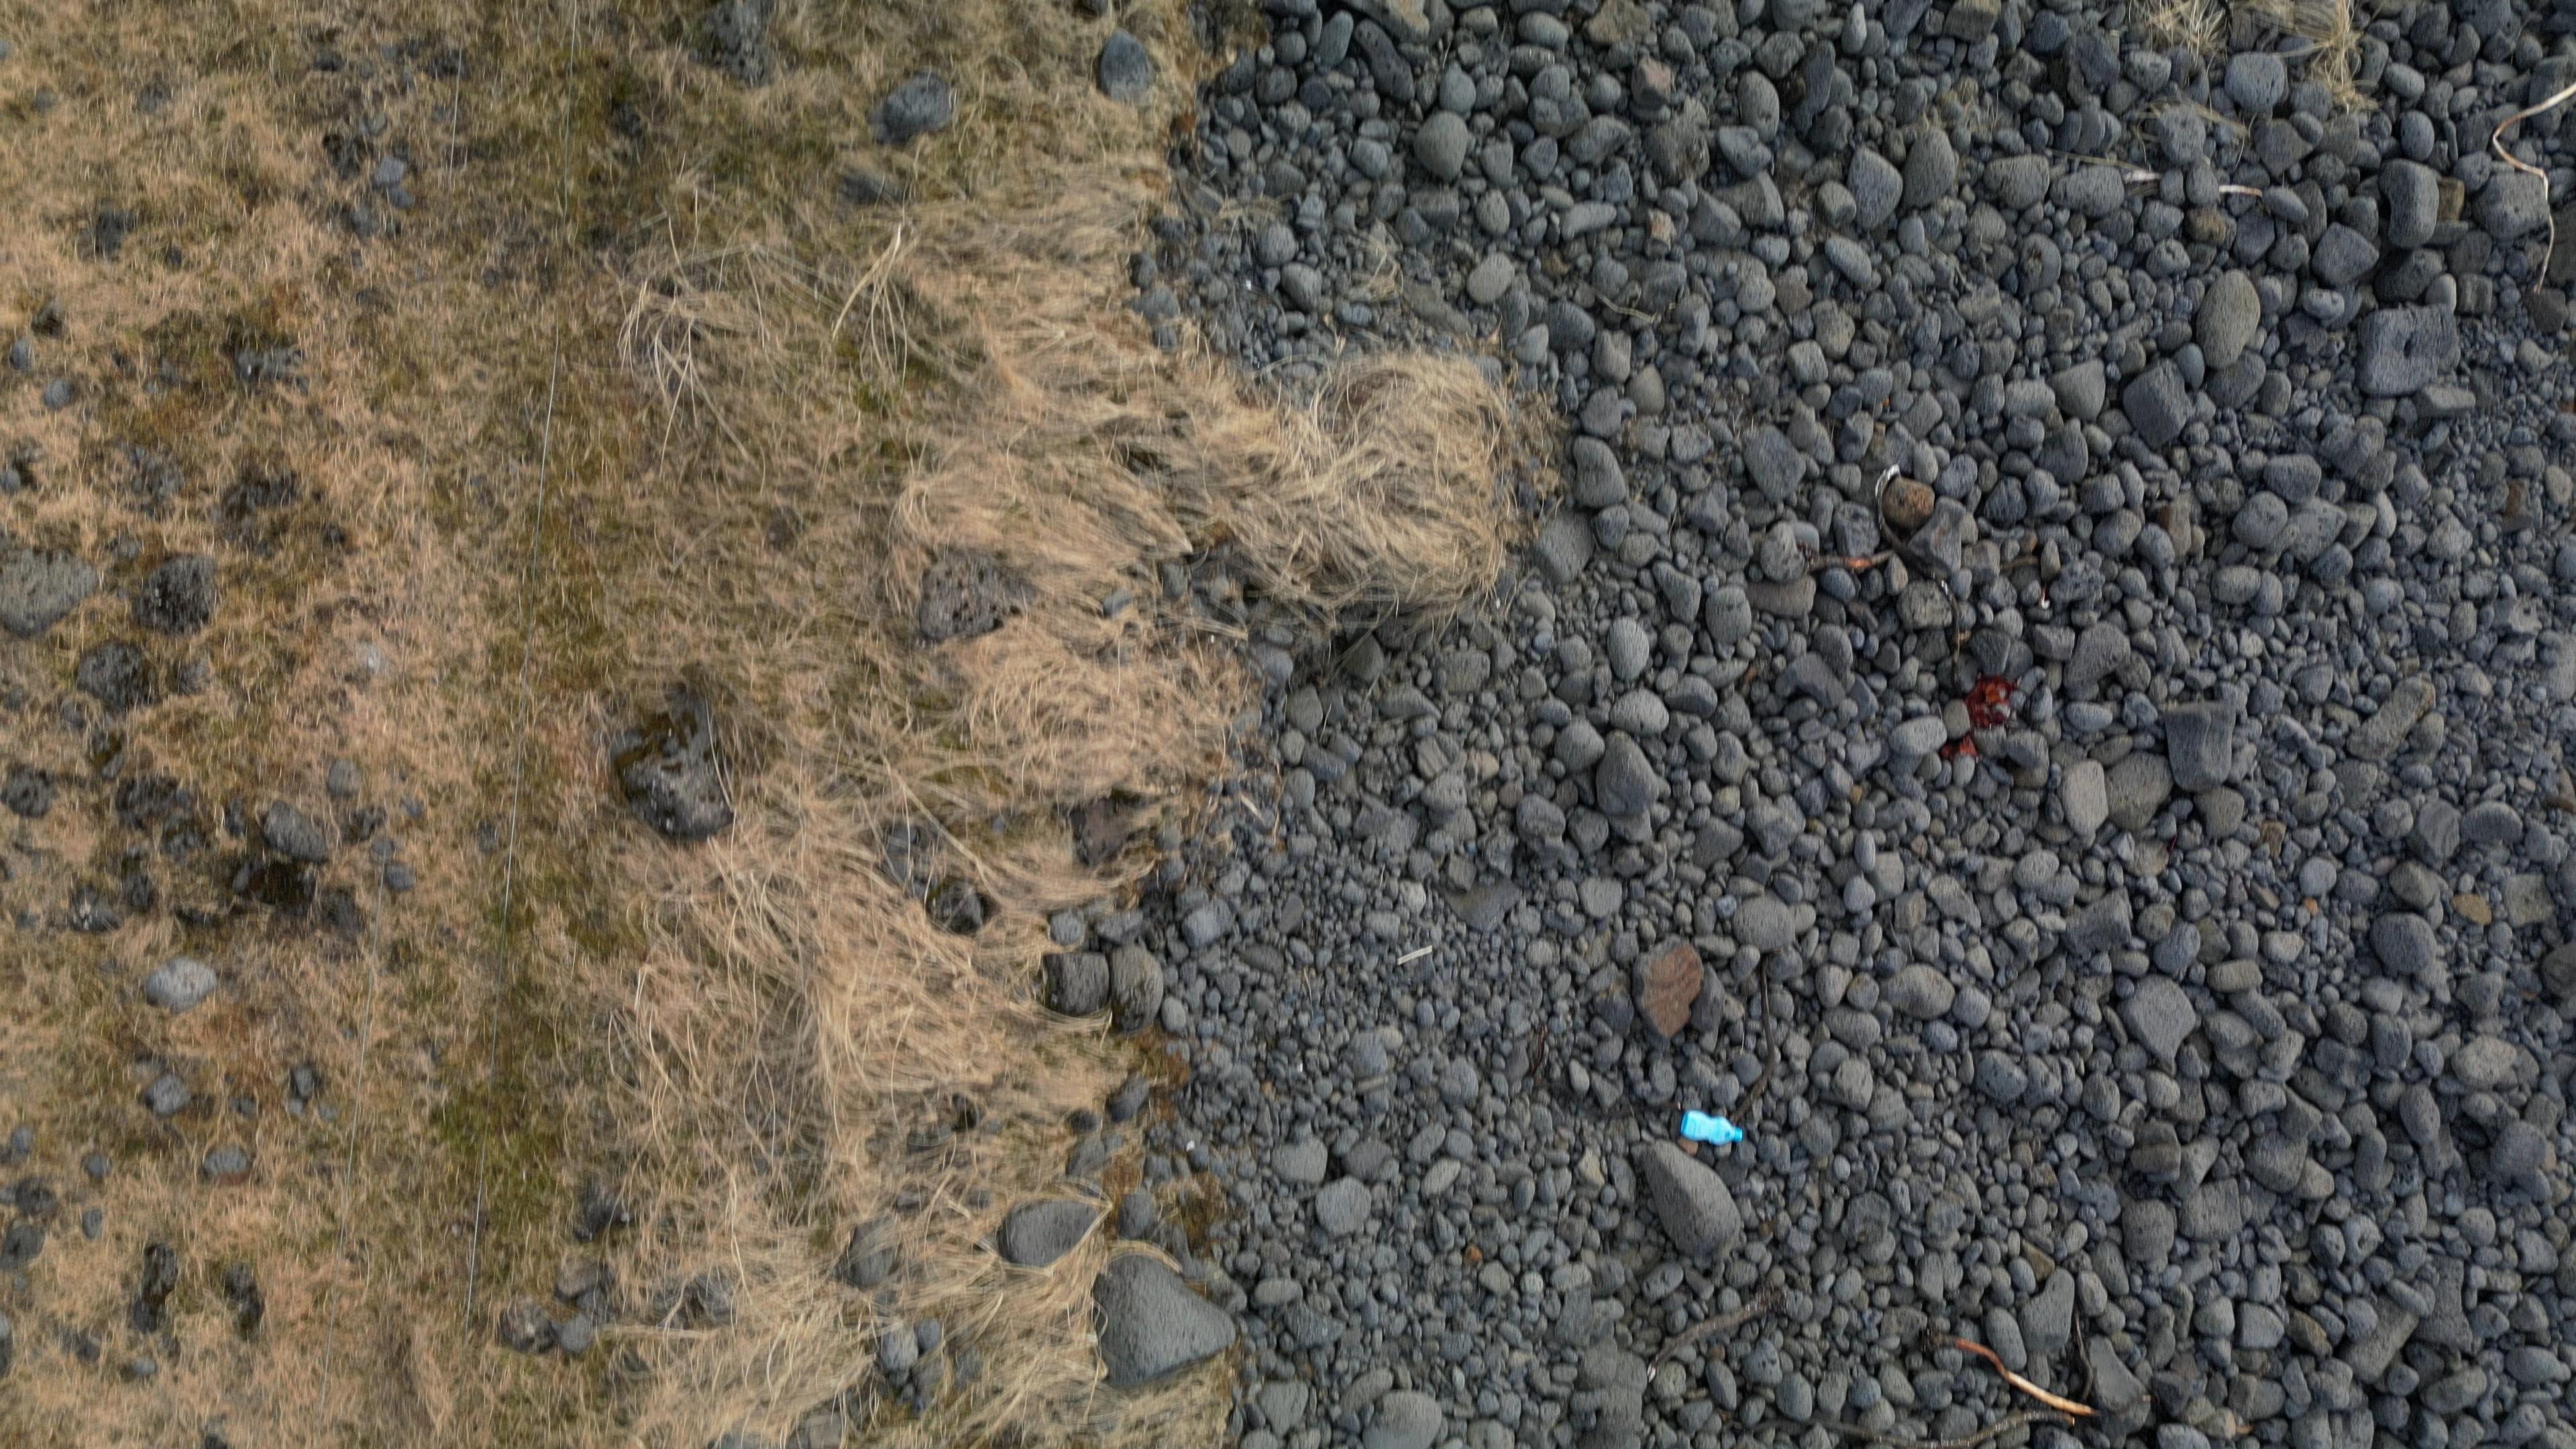trash: (1681, 1111, 1741, 1146)
